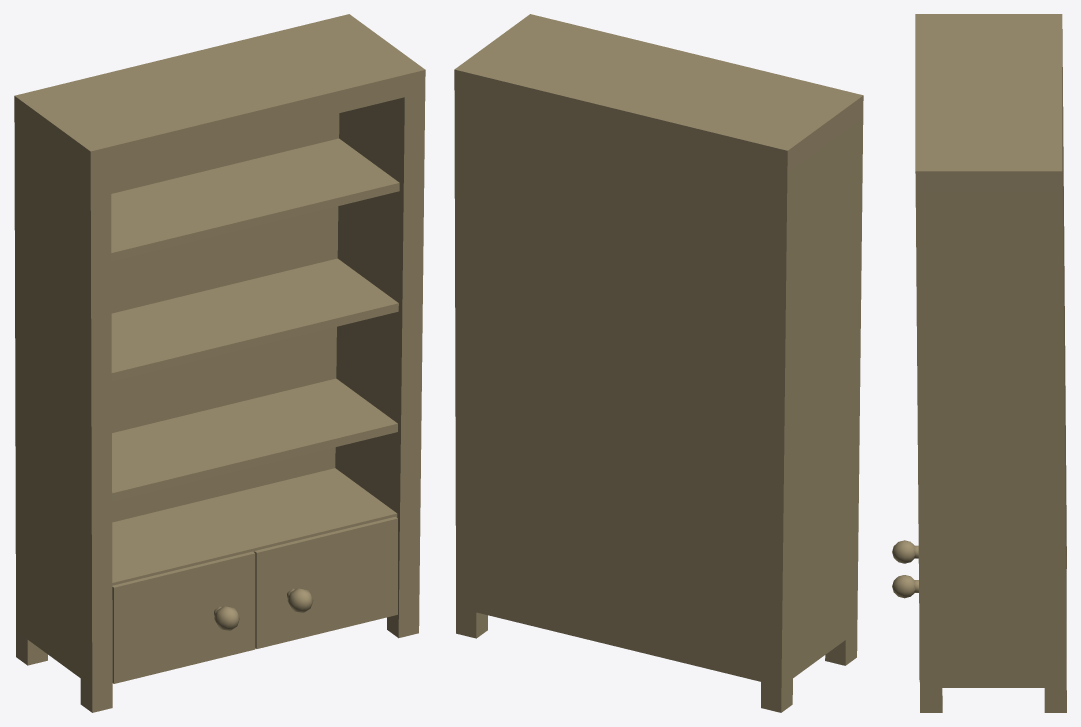
File: regał.fbx
The picture shows the model from 3 angles, left to right: view 1: azimuth 30°, elevation 25°; view 2: azimuth 150°, elevation 25°; view 3: azimuth 270°, elevation 25°; orthographic projection. The views are drawn at different scales.
Parts seen in each view (by area): view 1: Cube.005, Cube.003, Cube.007, Cube.006, Cylinder.010; view 2: Cube.005; view 3: Cube.005, Cylinder.010.
Boxes of the visible parts, x1,y1,x2,y2 form: Cube.005: [14, 14, 425, 712]; Cube.003: [111, 138, 399, 501]; Cube.007: [112, 516, 397, 683]; Cube.006: [112, 468, 397, 585]; Cylinder.010: [214, 588, 313, 630]; Cube.005: [454, 14, 863, 712]; Cube.005: [915, 14, 1066, 712]; Cylinder.010: [892, 540, 918, 598].
Bounding box in the file's own units: 79.75 × 128 × 37.43.
